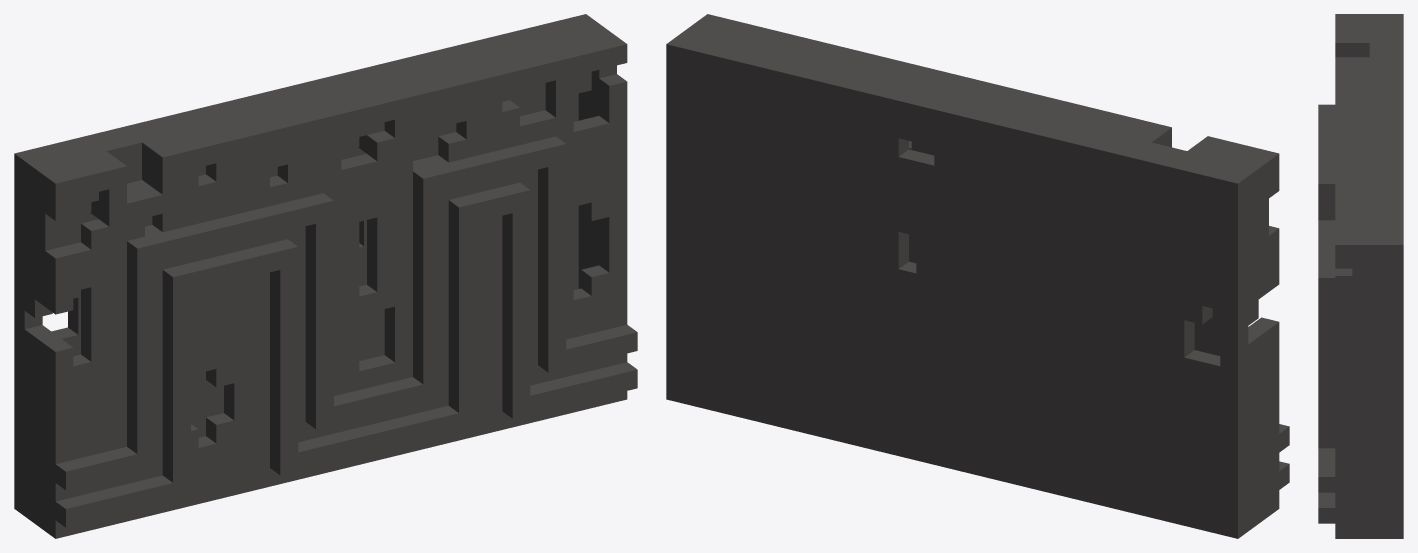
The model's file is boss walls.gltf.
3 views of the same model, side by side, from view 1: azimuth 30°, elevation 25°; view 2: azimuth 150°, elevation 25°; view 3: azimuth 270°, elevation 25° (orthographic). The views are drawn at different scales.
Parts seen in each view (by area): view 1: Layer.1; view 2: Layer.1; view 3: Layer.1.
Part boxes in pixels (x1,y1,x2,y2): Layer.1: (14,14,637,538); Layer.1: (666,14,1289,538); Layer.1: (1318,14,1403,538).
Size of the model in its own units: 32 by 19 by 5.
Materials: 1 (1 with a texture image).
